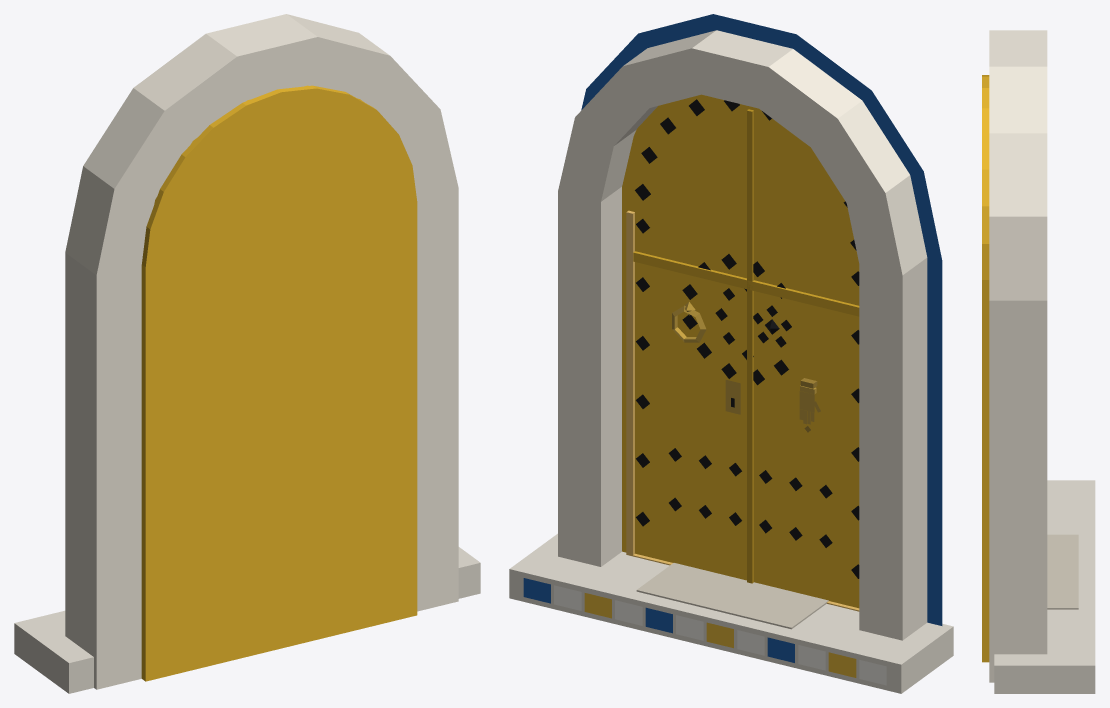
The model's file is door_sbs_yellow.glb.
3 renders of one model, left to right at view 1: azimuth 30°, elevation 25°; view 2: azimuth 150°, elevation 25°; view 3: azimuth 270°, elevation 25°, orthographic. The views are drawn at different scales.
Visible parts, largest first — view 1: door_sbs_yellow; view 2: door_sbs_yellow; view 3: door_sbs_yellow.
Part boxes in pixels (box(x1,y1,x2,y2)): door_sbs_yellow: box(14, 14, 480, 693); door_sbs_yellow: box(509, 14, 953, 693); door_sbs_yellow: box(982, 30, 1095, 693).
Bounding box in the file's own units: 1.82 × 2.6 × 0.472.
